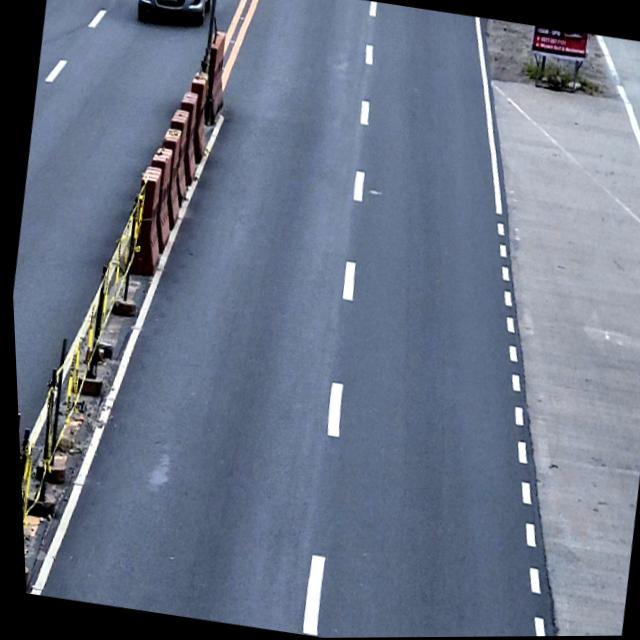Car: (134, 0, 211, 30)
License-Plate: (161, 0, 180, 4)
